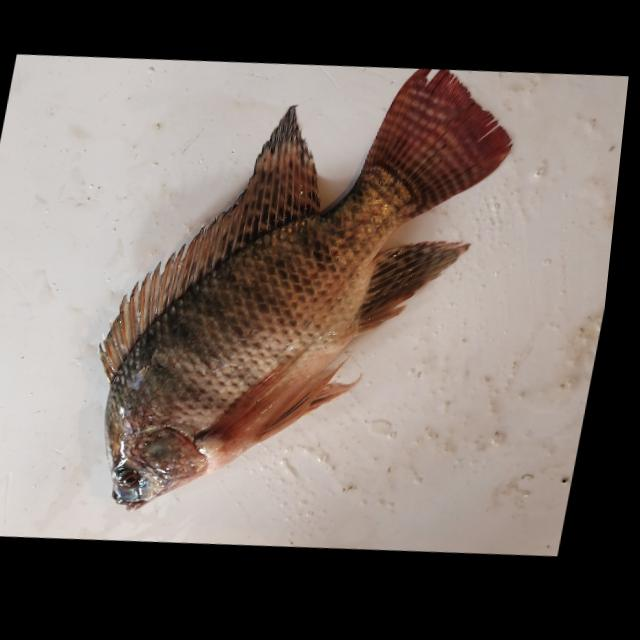Tilapia: (66, 37, 530, 537)
